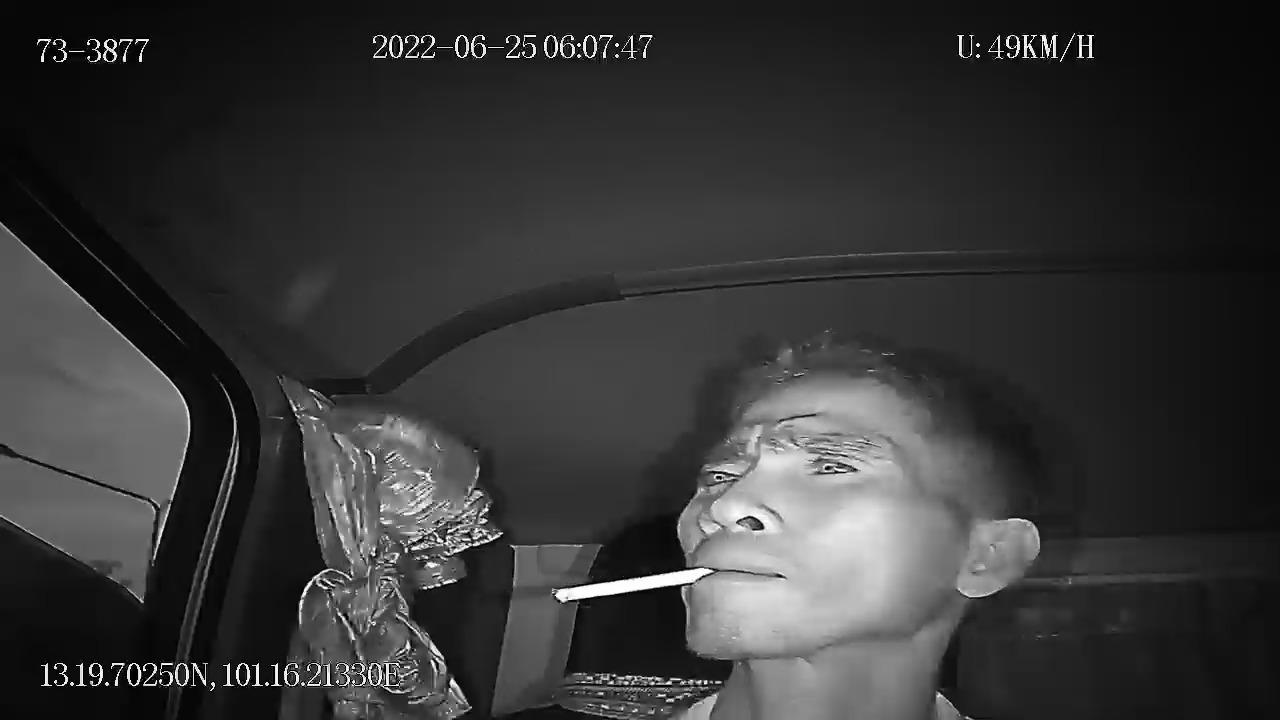Smoking: (525, 560, 721, 610)
